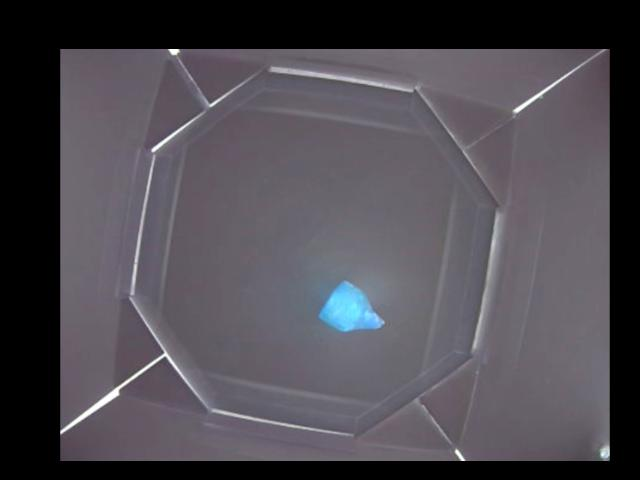Carrot: (320, 279, 386, 330)
